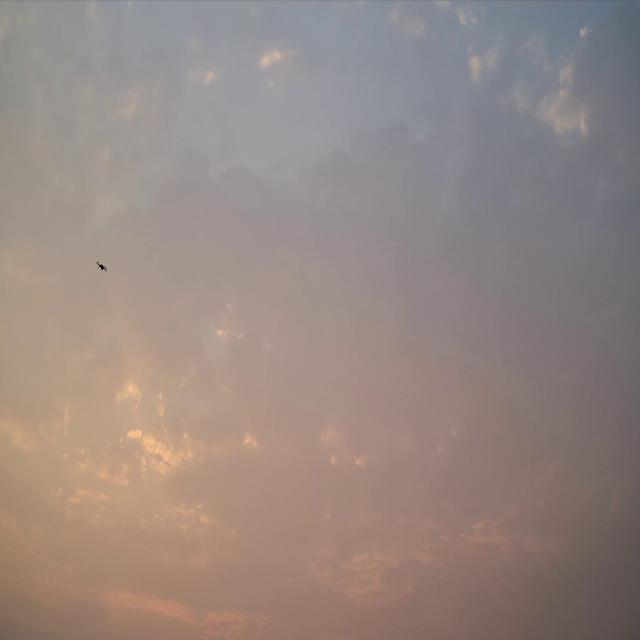UAV: (96, 262, 108, 274)
